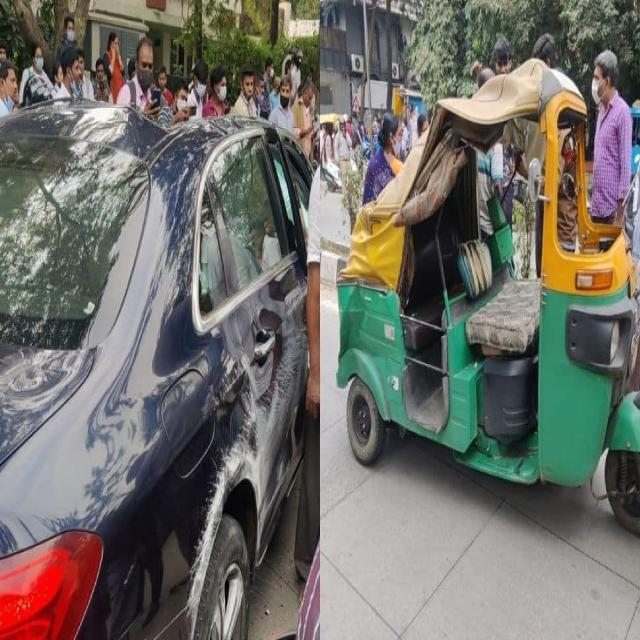accident: (338, 58, 640, 534)
car: (0, 105, 312, 639)
